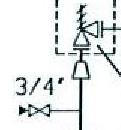psv: (72, 2, 101, 49)
valve: (28, 104, 50, 117)
